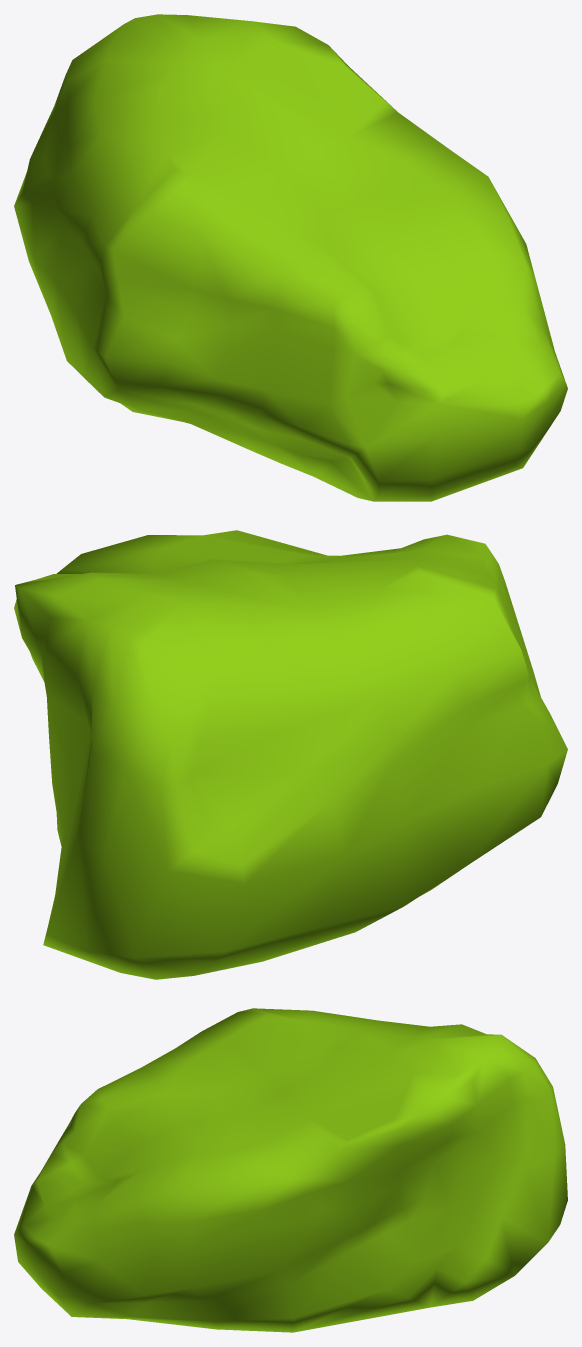
Rendered from Floor_Rock_Pile_01A_Lod0.fbx.
3 renders of one model, top to bottom at view 1: azimuth 30°, elevation 25°; view 2: azimuth 150°, elevation 25°; view 3: azimuth 270°, elevation 25°, orthographic. The views are drawn at different scales.
Parts seen in each view (by area): view 1: Floor_Rock_Pile_01A_Lod0; view 2: Floor_Rock_Pile_01A_Lod0; view 3: Floor_Rock_Pile_01A_Lod0.
Part boxes in pixels (left/top/right/bottom): Floor_Rock_Pile_01A_Lod0: left=14, top=14, right=567, bottom=501; Floor_Rock_Pile_01A_Lod0: left=14, top=530, right=567, bottom=979; Floor_Rock_Pile_01A_Lod0: left=14, top=1008, right=567, bottom=1332.
Size of the model in its own units: 140 by 102 by 206.
